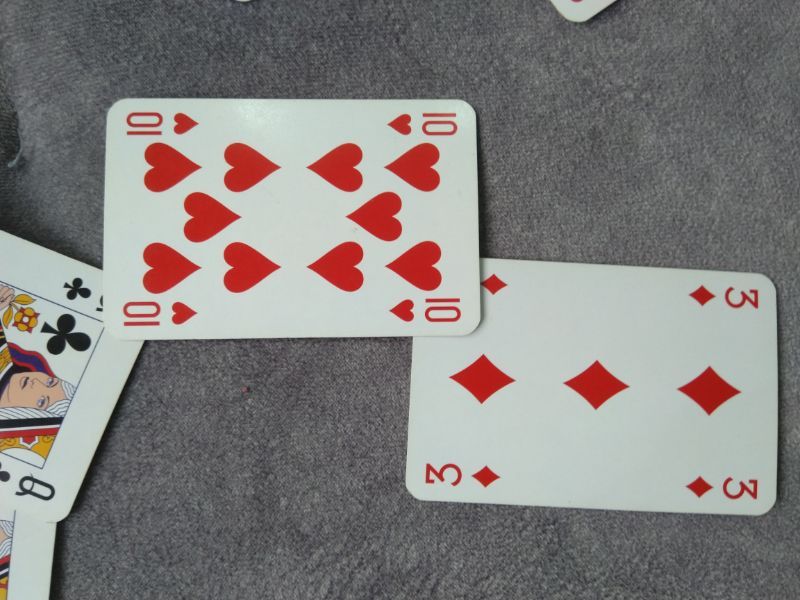3d: (421, 456, 506, 495), (683, 277, 765, 316), (679, 472, 765, 503)
Th: (119, 297, 203, 329), (385, 292, 466, 325), (123, 107, 204, 138), (384, 109, 462, 140)
